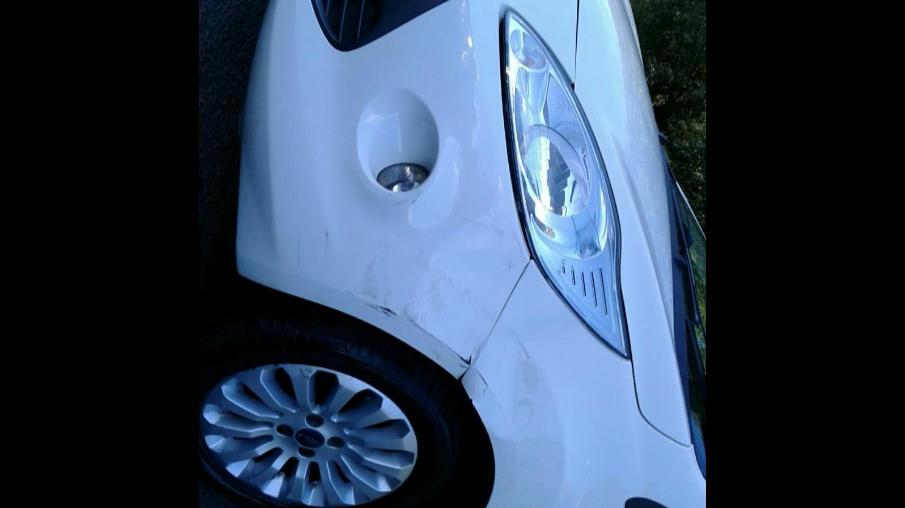Broken part: (496, 6, 550, 286), (572, 0, 581, 58)
Dent: (444, 280, 542, 426), (430, 218, 510, 288), (486, 426, 560, 478), (458, 370, 484, 396)
Paint chip: (458, 352, 486, 394), (364, 300, 396, 316)
Scratch: (388, 190, 420, 206), (322, 226, 332, 262), (296, 232, 300, 270), (296, 368, 308, 378), (430, 348, 438, 358), (304, 368, 314, 374)
